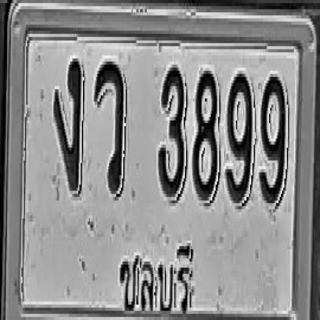A07: (53, 55, 83, 194)
A37: (94, 57, 126, 196)
N03: (158, 63, 186, 202)
N08: (193, 66, 219, 202)
N09: (226, 69, 253, 205), (259, 72, 286, 205)
